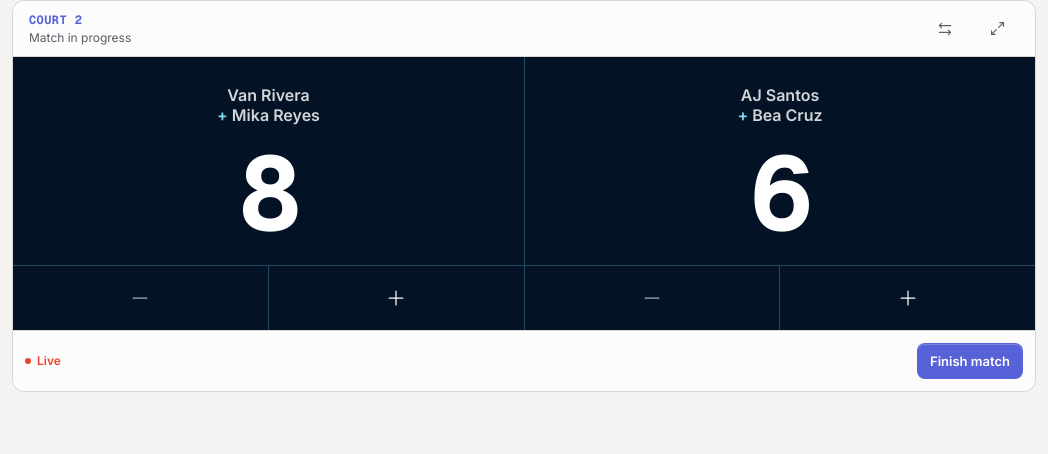
LiveCourt › shows the authoritative score and a retry path after a concurrent update
Click the button named "Add a point to Van Rivera + Mika Reyes" at (396,298), box [268, 266, 524, 330]
Wait 421 ms
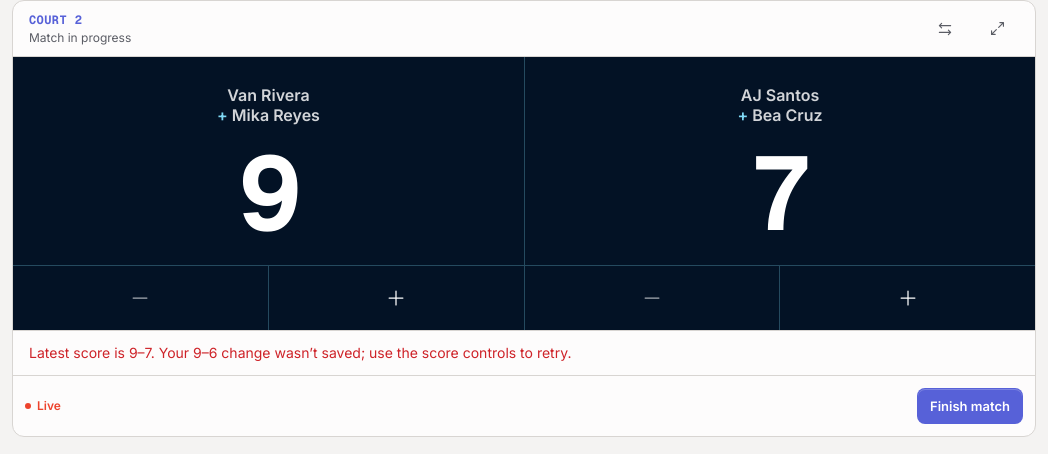
Expected: the text named "Van Rivera + Mika Reyes score 9" reads "9", [239, 125, 298, 261]
Expected: the message shows "Latest score is 9–7. Your 9–6 change wasn’t saved; use the score controls to retry.", [29, 344, 572, 361]
